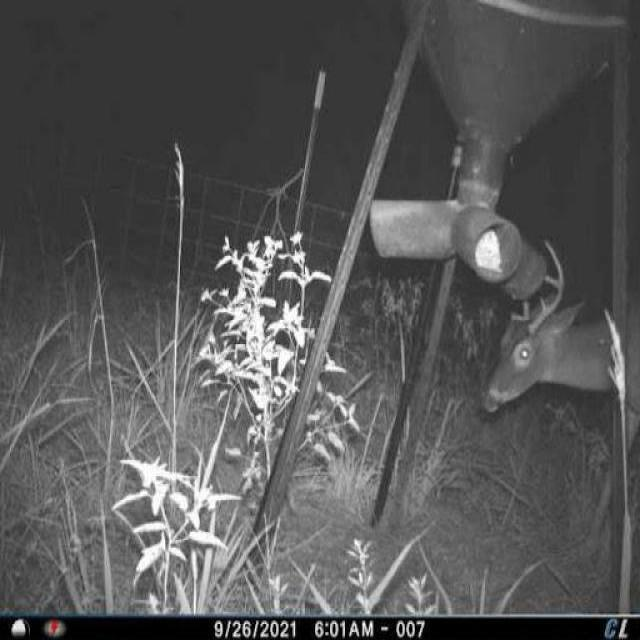deer: (474, 237, 640, 478)
